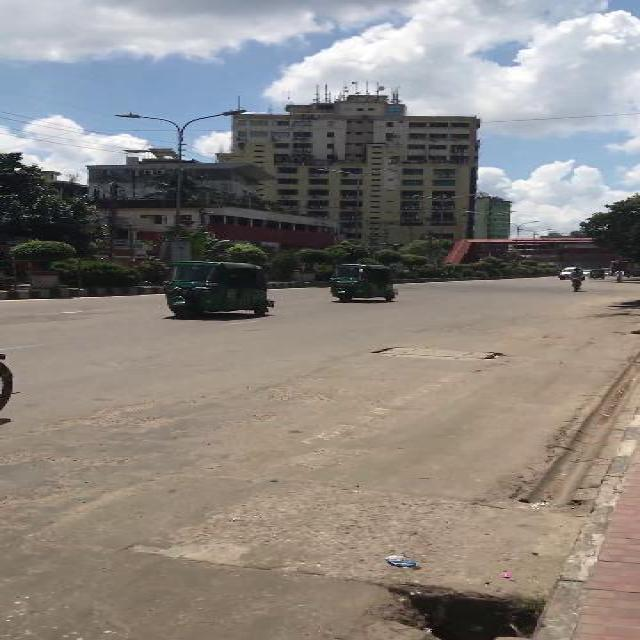bicycle: (569, 266, 583, 292), (613, 268, 624, 282)
three wheelers -CNG-: (160, 258, 274, 318), (329, 262, 400, 302), (586, 269, 604, 279)
